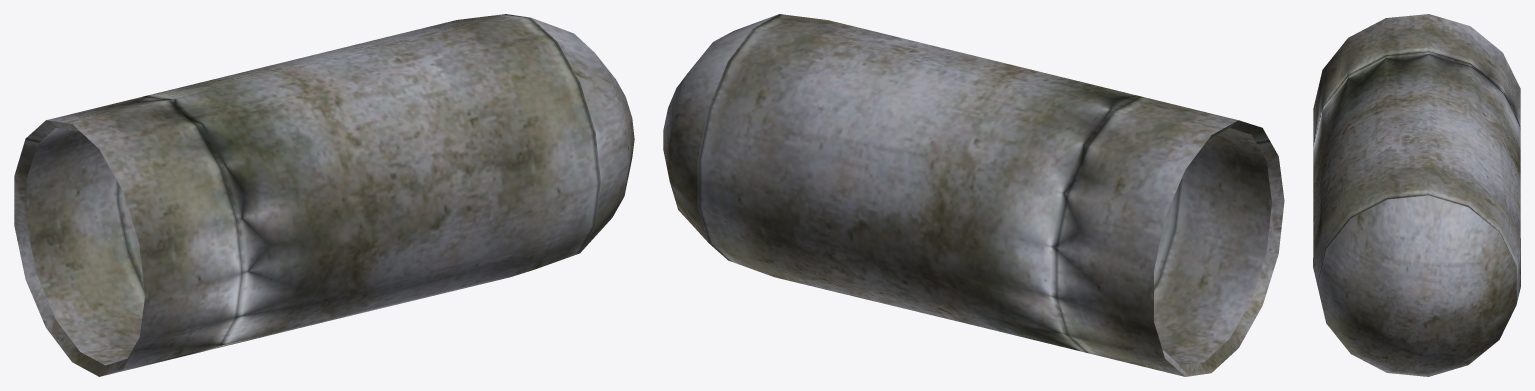
The model's file is M11_Missile_Cap.glb.
3 views of the same model, side by side, from view 1: azimuth 30°, elevation 25°; view 2: azimuth 150°, elevation 25°; view 3: azimuth 270°, elevation 25° (orthographic). The views are drawn at different scales.
Parts seen in each view (by area): view 1: M11_MISSILE_CAP; view 2: M11_MISSILE_CAP; view 3: M11_MISSILE_CAP.
Part boxes in pixels (bbox=[...]): M11_MISSILE_CAP: bbox=[14, 14, 634, 376]; M11_MISSILE_CAP: bbox=[663, 14, 1284, 376]; M11_MISSILE_CAP: bbox=[1313, 14, 1520, 376].
Bounding box in the file's own units: 5.24 × 2.22 × 2.21.
Materials: 1 (1 with a texture image).
